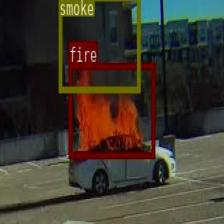fire: (68, 62, 155, 157)
smoke: (58, 0, 140, 92)
